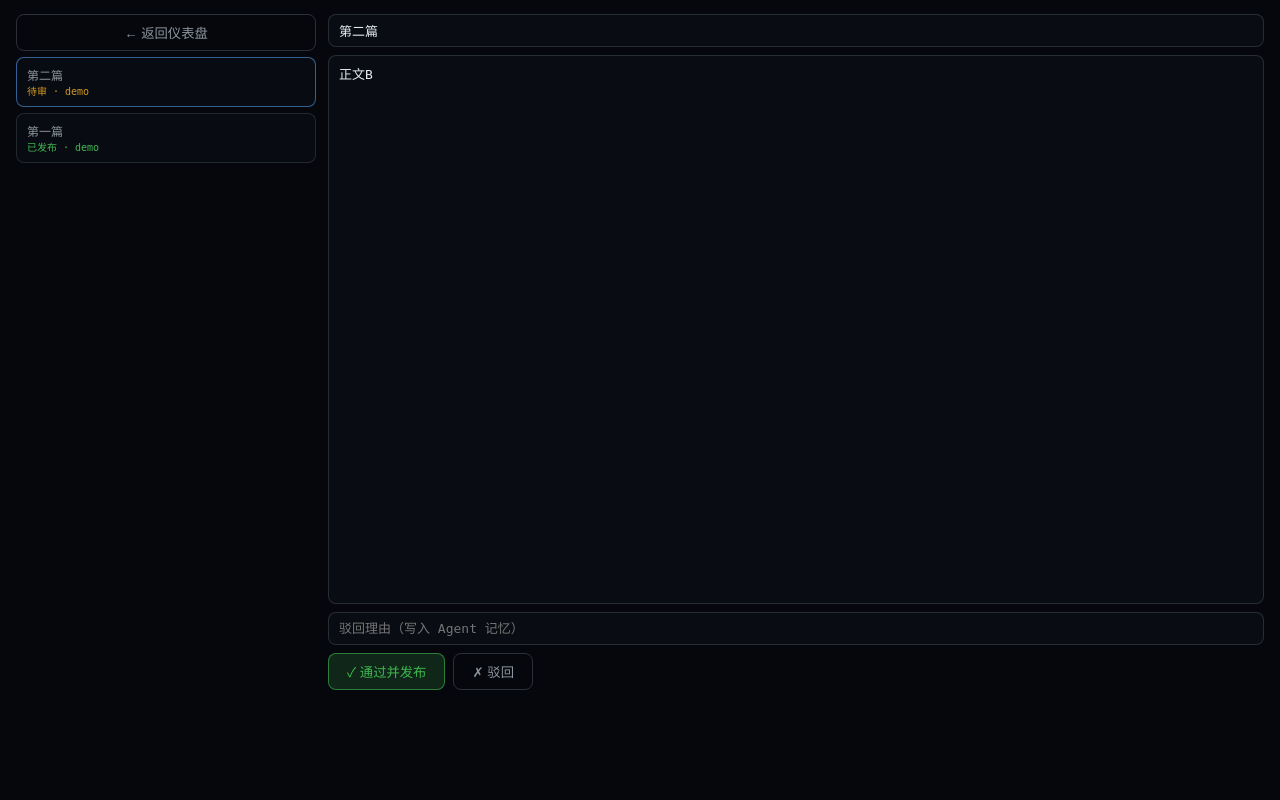
reject flow：未填理由时以占位理由驳回并提示
The width and height of the screenshot is (1280, 800).
Check: the text "第二篇" is shown, box 27,69 -> 63,83
Click the button "✗ 驳回": [493, 672] box 454,653 -> 533,690
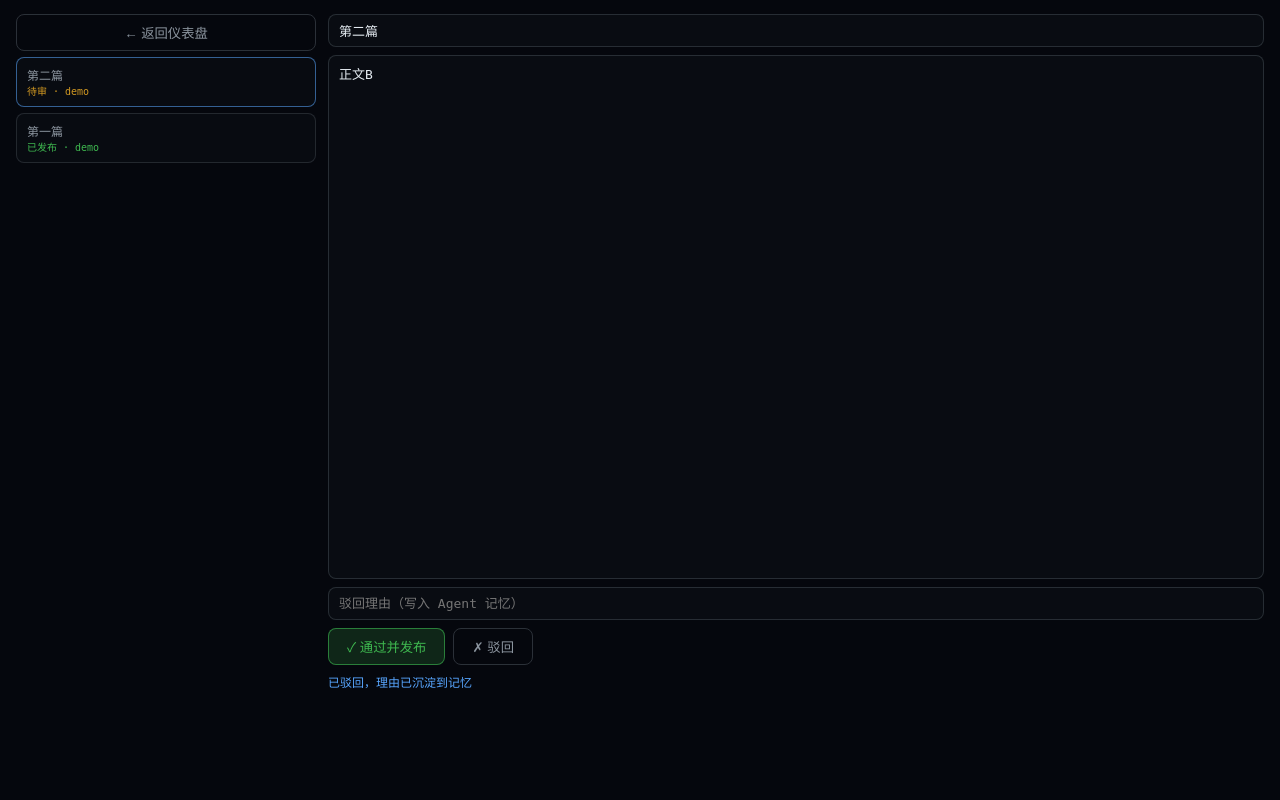
Check: the text "已驳回，理由已沉淀到记忆" is shown, box 328,676 -> 472,690
